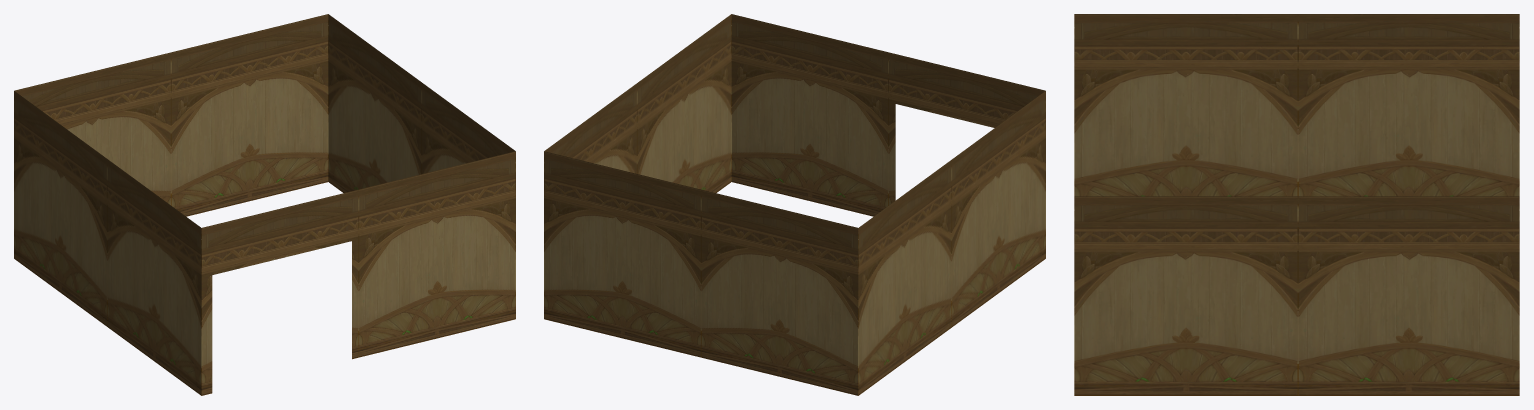
File: Homeworld_Interior_Xm_Room_N_Filling_01_Vo.fbx
3 views of the same model, side by side, from view 1: azimuth 30°, elevation 25°; view 2: azimuth 150°, elevation 25°; view 3: azimuth 270°, elevation 25° (orthographic). The views are drawn at different scales.
Parts seen in each view (by area): view 1: Homeworld_Interior_Xm_Room_N_Filling_01_Vo; view 2: Homeworld_Interior_Xm_Room_N_Filling_01_Vo; view 3: Homeworld_Interior_Xm_Room_N_Filling_01_Vo.
Part boxes in pixels (x1,y1,x2,y2): Homeworld_Interior_Xm_Room_N_Filling_01_Vo: (14, 14, 515, 395); Homeworld_Interior_Xm_Room_N_Filling_01_Vo: (544, 14, 1045, 395); Homeworld_Interior_Xm_Room_N_Filling_01_Vo: (1074, 14, 1519, 395).
Size of the model in its own units: 9.75 by 4.98 by 10.07.
